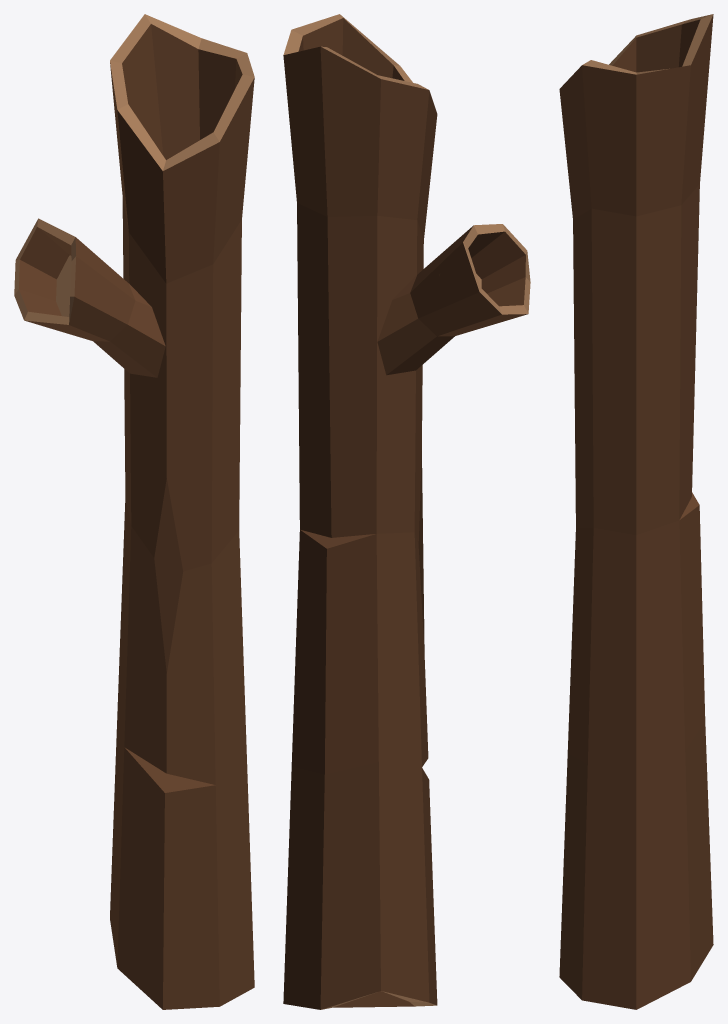
The model's file is Trunk Wood_2.fbx.
The picture shows the model from 3 angles, left to right: view 1: azimuth 30°, elevation 25°; view 2: azimuth 150°, elevation 25°; view 3: azimuth 270°, elevation 25°; orthographic projection. The views are drawn at different scales.
Parts seen in each view (by area): view 1: M_Trunk Wood 2; view 2: M_Trunk Wood 2; view 3: M_Trunk Wood 2.
Boxes of the visible parts, x1,y1,x2,y2 form: M_Trunk Wood 2: [14, 14, 254, 1009]; M_Trunk Wood 2: [283, 14, 530, 1009]; M_Trunk Wood 2: [559, 14, 713, 1009].
Size of the model in its own units: 0.2546 by 1.02 by 0.1482.
1 material, 1 textured.
